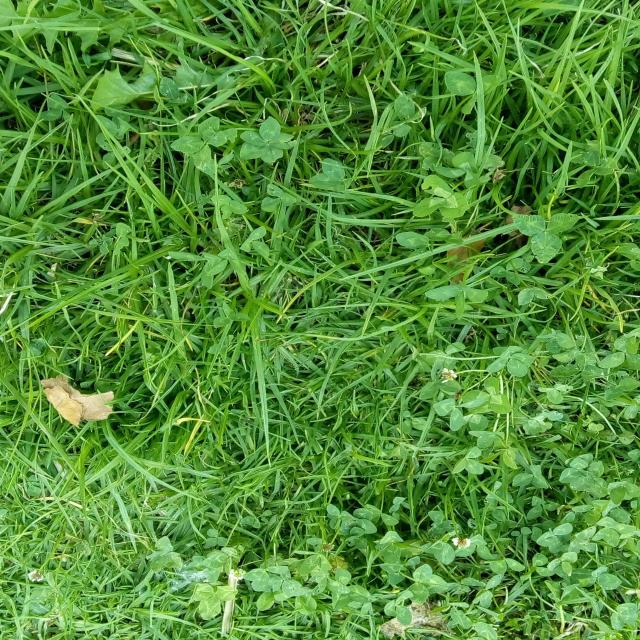Four Leaf Clover: (170, 116, 228, 169), (239, 116, 293, 164)
